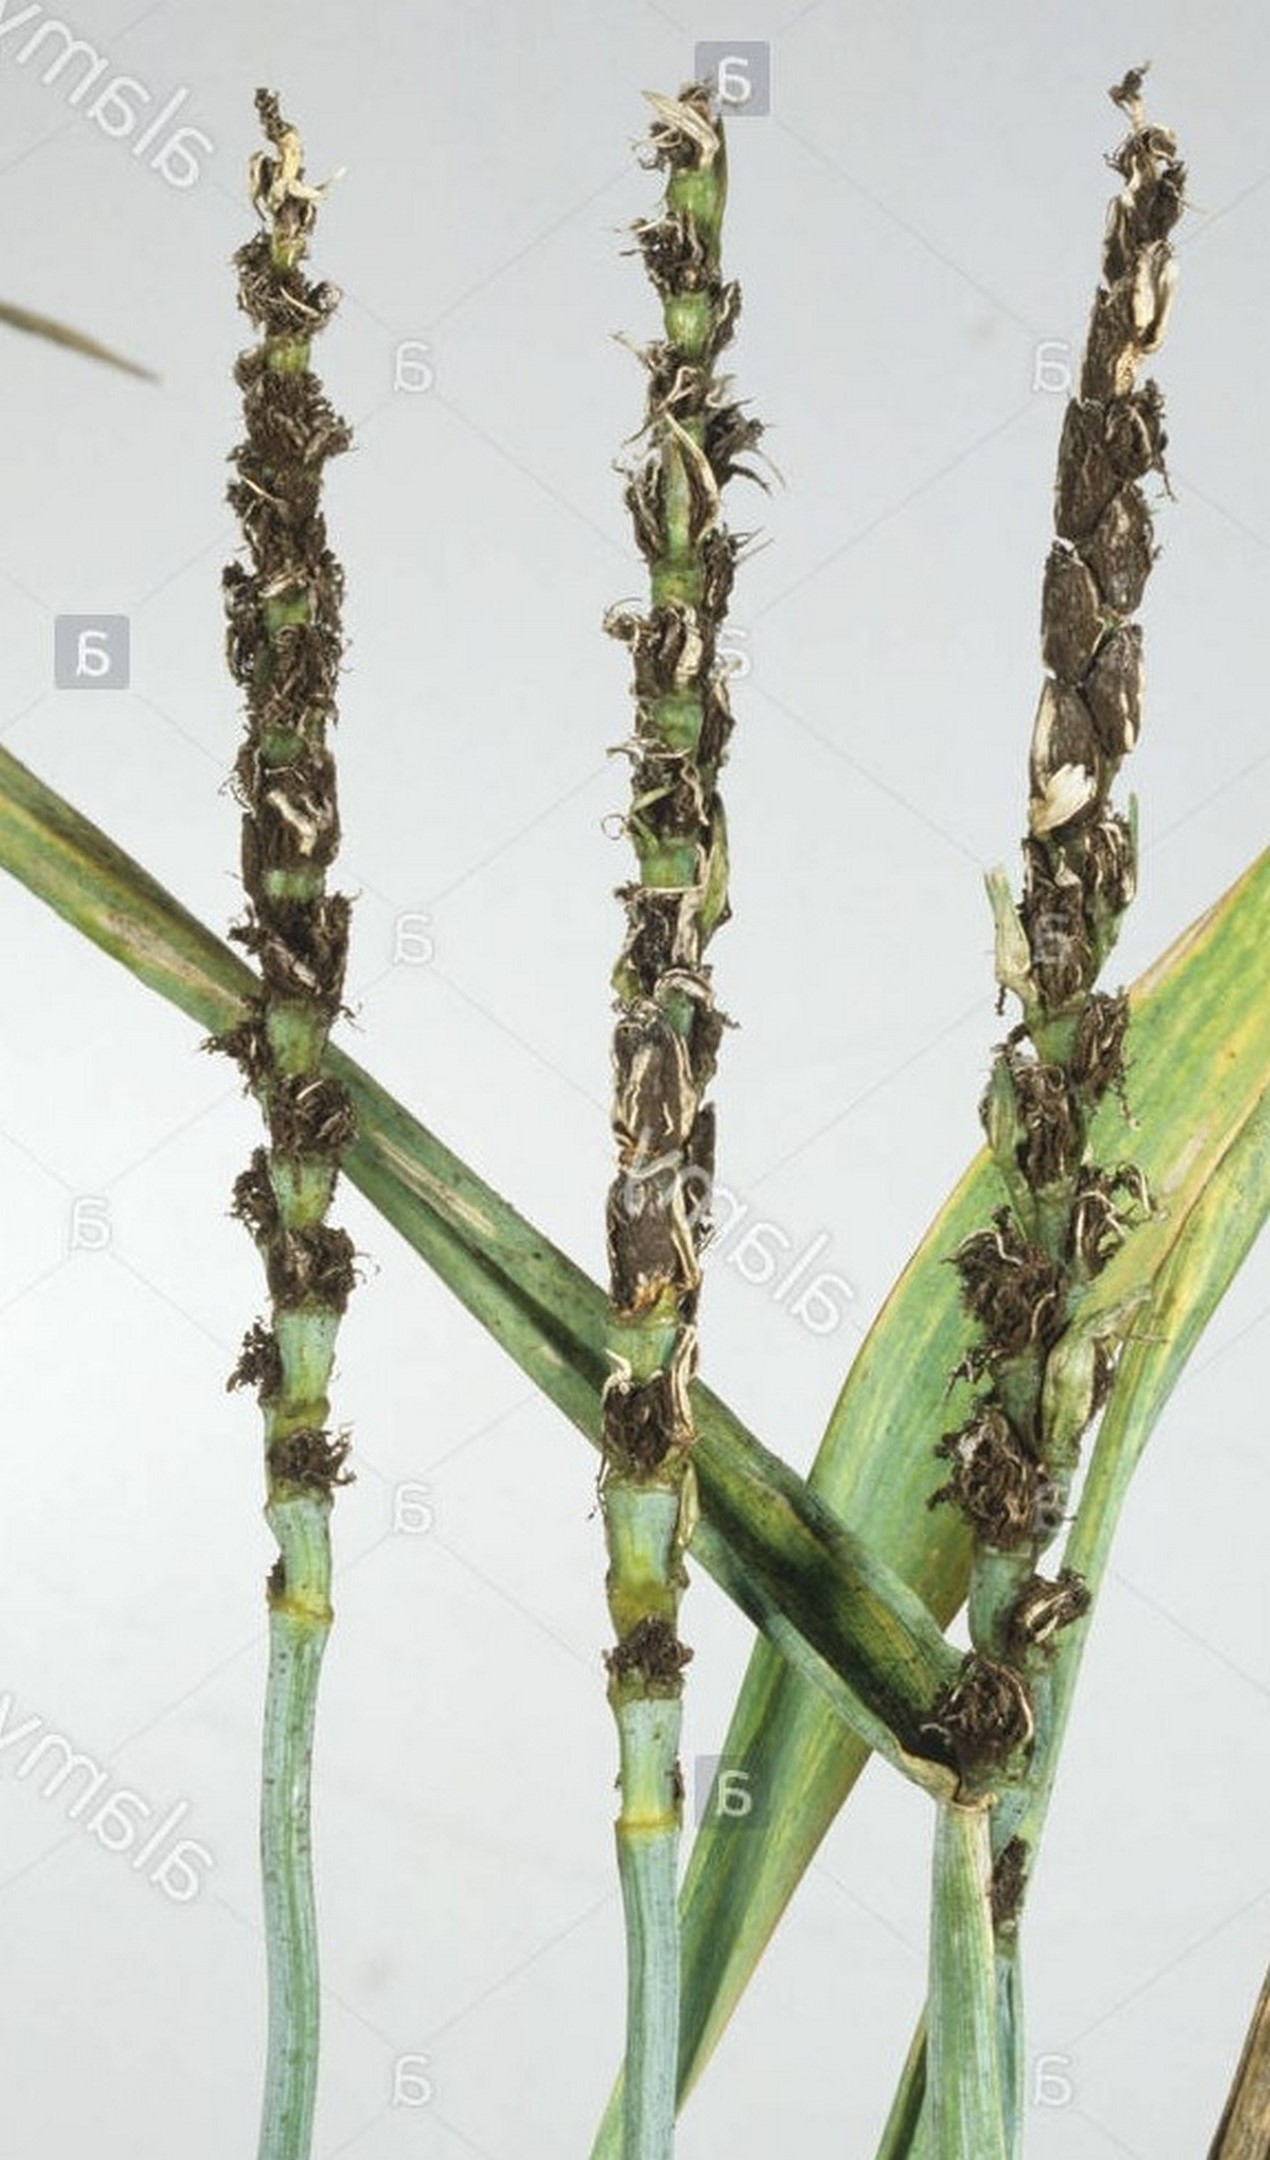Wheat Loose Smut: (568, 77, 1203, 1552), (187, 124, 411, 1510)
